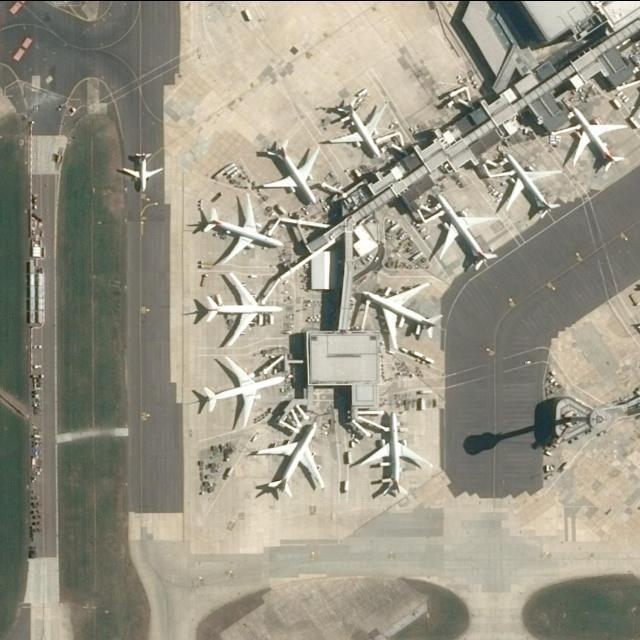Aircraft: (354, 410, 431, 502), (197, 191, 284, 268), (200, 355, 288, 431), (199, 272, 284, 349), (359, 281, 443, 354), (254, 420, 323, 503), (430, 192, 500, 270), (497, 152, 567, 220), (565, 103, 626, 175), (260, 141, 320, 207), (327, 100, 387, 159), (118, 149, 161, 195)
